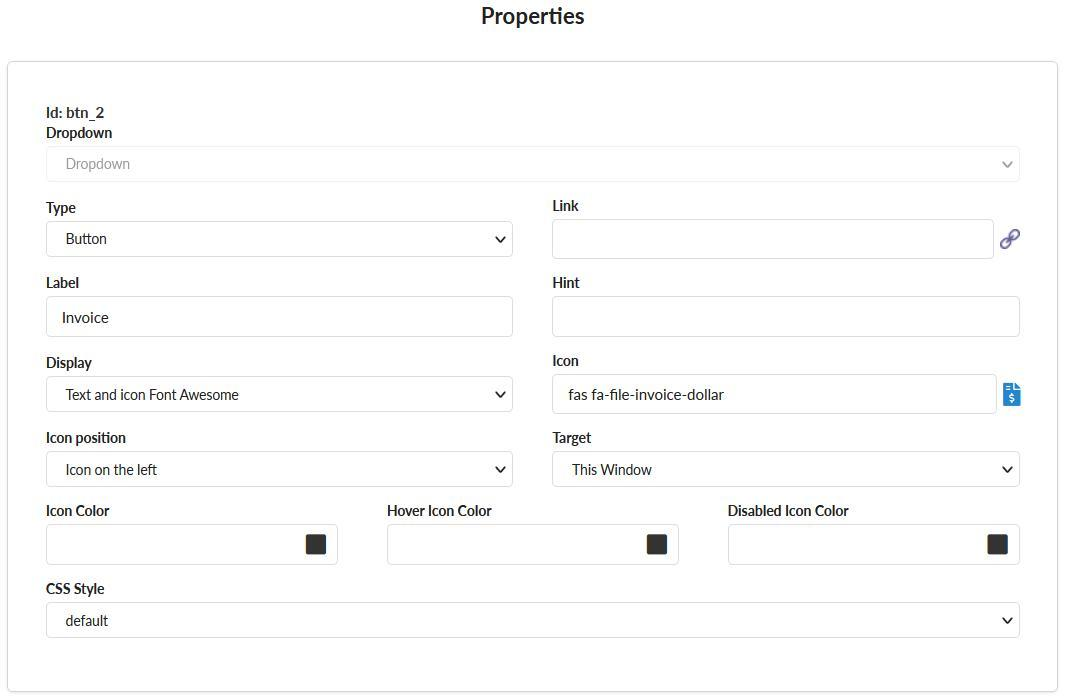dropdown: (42, 147, 1023, 185), (49, 603, 1022, 641), (48, 376, 514, 415), (50, 453, 516, 491), (51, 219, 515, 257), (554, 454, 1020, 488)
icon: (1003, 381, 1027, 409), (1000, 224, 1020, 254)
input: (48, 296, 515, 338), (554, 372, 999, 416), (551, 296, 1019, 337), (555, 221, 997, 263), (390, 522, 680, 567), (730, 524, 1019, 569), (48, 524, 336, 567)
label: (44, 104, 121, 142), (723, 504, 852, 521), (385, 500, 494, 520), (39, 429, 134, 447), (44, 500, 119, 520), (40, 355, 97, 375), (43, 581, 110, 596), (551, 425, 596, 447), (42, 273, 84, 294), (550, 274, 586, 297), (546, 352, 587, 372), (42, 198, 80, 218), (546, 196, 585, 215)
